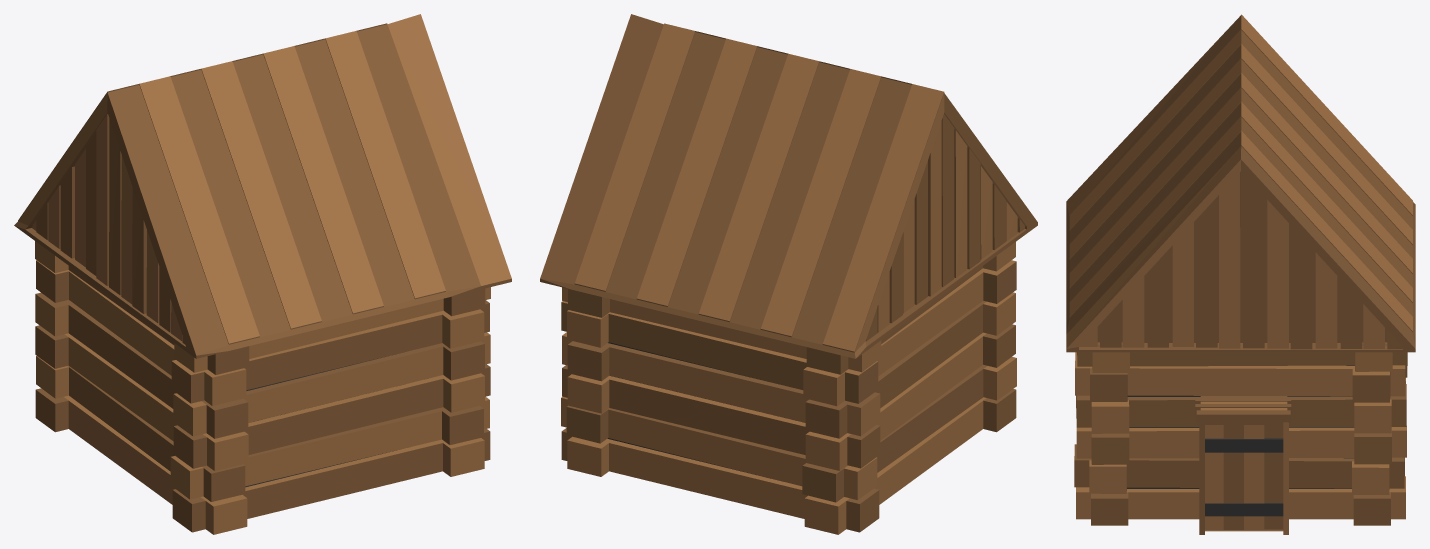
Rendered from blokhut.dae.
3 renders of one model, left to right at view 1: azimuth 30°, elevation 25°; view 2: azimuth 150°, elevation 25°; view 3: azimuth 270°, elevation 25°, orthographic. The views are drawn at different scales.
Visible parts, largest first — view 1: Cube_006, Cube, Cube_007; view 2: Cube_006, Cube, Cube_007; view 3: Cube_006, Cube, Cube_014, Cube_008.
Part boxes in pixels (x1,y1,x2,y2): Cube_006: (14, 14, 511, 358); Cube: (35, 241, 490, 534); Cube_007: (32, 114, 185, 344); Cube_006: (540, 14, 1037, 358); Cube: (561, 242, 1016, 534); Cube_007: (866, 114, 1024, 341); Cube_006: (1066, 14, 1415, 352); Cube: (1074, 342, 1407, 525); Cube_014: (1079, 172, 1402, 349); Cube_008: (1195, 396, 1291, 534).
Size of the model in its own units: 2.42 by 2.33 by 2.72.
